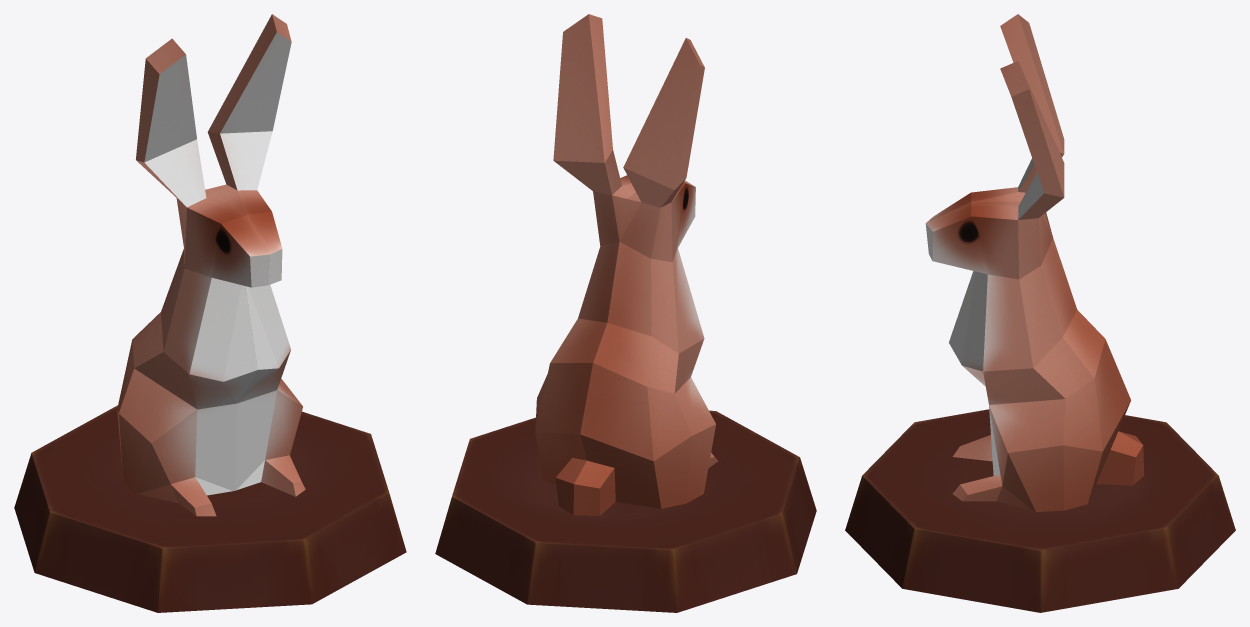
The model's file is Asset_Prey_Bunny.fbx.
3 renders of one model, left to right at view 1: azimuth 30°, elevation 25°; view 2: azimuth 150°, elevation 25°; view 3: azimuth 270°, elevation 25°, orthographic. The views are drawn at different scales.
Parts seen in each view (by area): view 1: Bunny_body, Bunny_Stand; view 2: Bunny_body, Bunny_Stand; view 3: Bunny_body, Bunny_Stand.
Part boxes in pixels (x1,y1,x2,y2): Bunny_body: (117,14,305,516); Bunny_Stand: (14,405,406,612); Bunny_body: (535,14,717,515); Bunny_Stand: (435,410,816,612); Bunny_body: (925,14,1143,511); Bunny_Stand: (845,409,1235,612).
Size of the model in its own units: 16.76 by 23.32 by 16.76.
